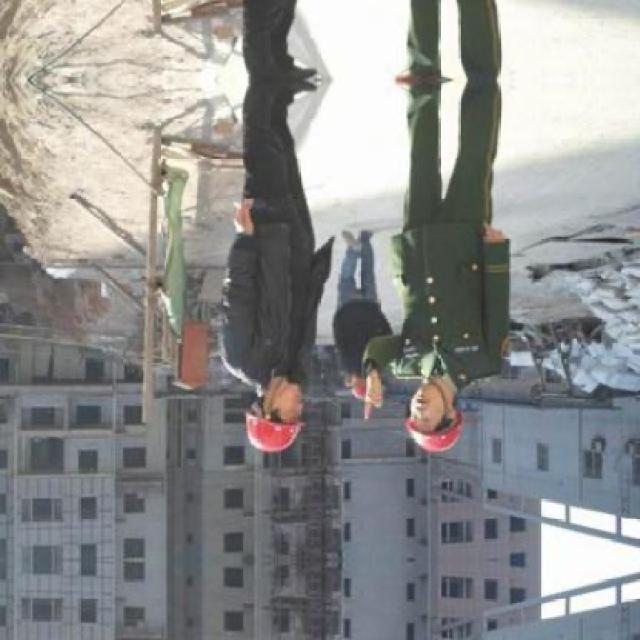con casco: (202, 361, 330, 495), (341, 354, 468, 453)
